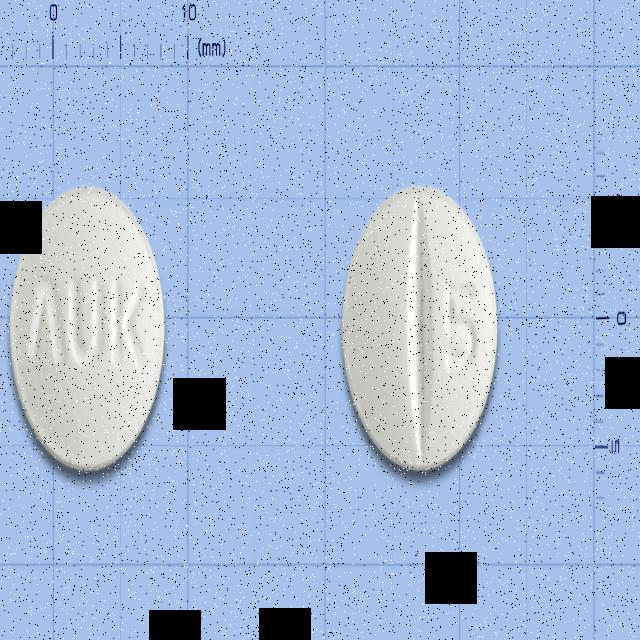Ciprox: (2, 177, 171, 486), (336, 182, 501, 480)
